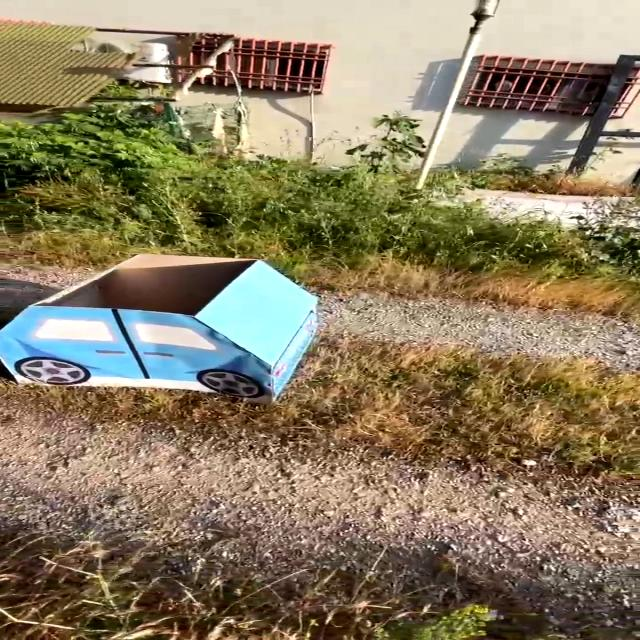blue_car: (0, 235, 384, 414)
